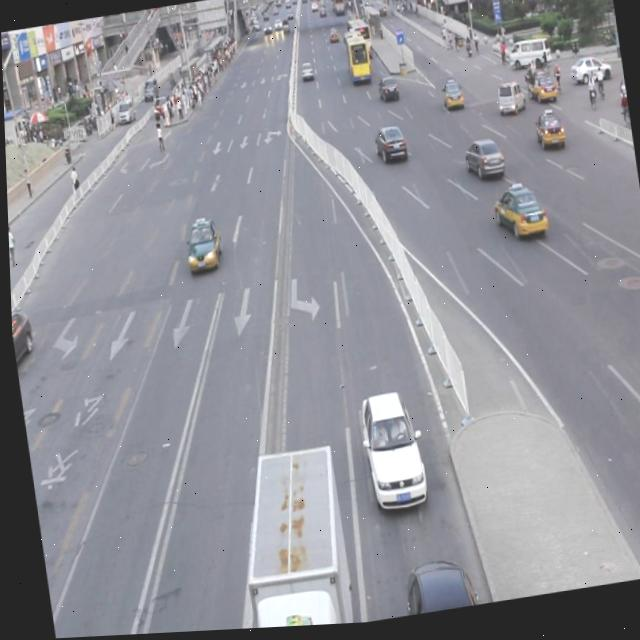bus: (221, 439, 351, 632)
car: (352, 389, 425, 517), (394, 554, 470, 619), (489, 186, 545, 245), (180, 216, 223, 275), (461, 140, 503, 186), (371, 125, 406, 169), (9, 307, 35, 362), (532, 116, 564, 156)
